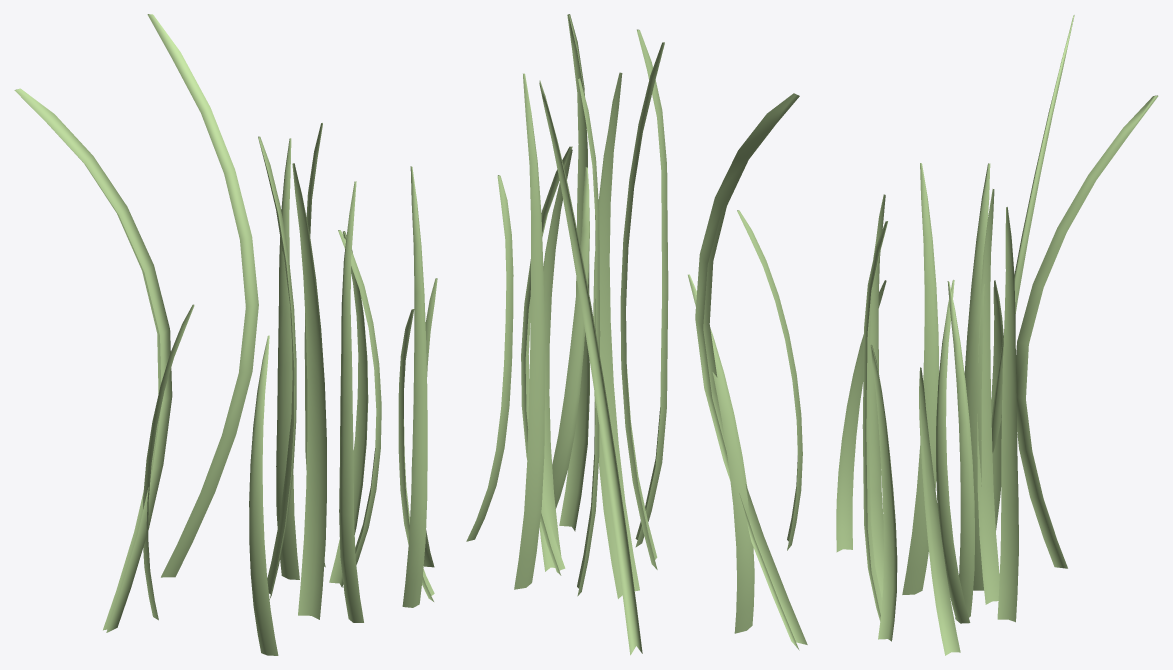
Rendered from erba fine 2.fbx.
3 views of the same model, side by side, from view 1: azimuth 30°, elevation 25°; view 2: azimuth 150°, elevation 25°; view 3: azimuth 270°, elevation 25° (orthographic). The views are drawn at different scales.
Parts seen in each view (by area): view 1: Plane.007, Plane.012, Plane.014, Plane.011, Plane.005, Plane.010, Plane.017, Plane.006, Plane.016, Plane.009, Plane.013, Plane.008 (+2 smaller); view 2: Plane.014, Plane.003, Plane.007, Plane.006, Plane.013, Plane.011, Plane.008, Plane.005, Plane.012, Plane.009, Plane.015, Plane.010 (+2 smaller); view 3: Plane.003, Plane.007, Plane.012, Plane.010, Plane.006, Plane.016, Plane.015, Plane.009, Plane.005, Plane.008, Plane.017, Plane.011 (+2 smaller).
Boxes of the visible parts, left/top/right/bottom form: Plane.007: left=147, top=14, right=258, bottom=577; Plane.012: left=292, top=163, right=326, bottom=619; Plane.014: left=14, top=88, right=172, bottom=632; Plane.011: left=402, top=166, right=427, bottom=607; Plane.005: left=339, top=181, right=363, bottom=622; Plane.010: left=276, top=138, right=299, bottom=579; Plane.017: left=249, top=335, right=278, bottom=655; Plane.006: left=258, top=136, right=296, bottom=599; Plane.016: left=329, top=231, right=368, bottom=587; Plane.009: left=338, top=230, right=381, bottom=564; Plane.013: left=143, top=304, right=194, bottom=620; Plane.008: left=398, top=309, right=434, bottom=601; Plane.014: left=695, top=93, right=807, bottom=650; Plane.003: left=514, top=73, right=544, bottom=589; Plane.007: left=539, top=80, right=642, bottom=655; Plane.006: left=593, top=72, right=639, bottom=598; Plane.013: left=688, top=274, right=754, bottom=633; Plane.011: left=559, top=14, right=589, bottom=531; Plane.008: left=552, top=167, right=589, bottom=508; Plane.005: left=635, top=29, right=668, bottom=547; Plane.012: left=620, top=42, right=664, bottom=569; Plane.009: left=539, top=149, right=572, bottom=571; Plane.015: left=466, top=175, right=513, bottom=541; Plane.010: left=577, top=78, right=600, bottom=596; Plane.003: left=997, top=207, right=1018, bottom=622; Plane.007: left=1016, top=95, right=1158, bottom=568; Plane.012: left=902, top=163, right=939, bottom=594; Plane.010: left=977, top=189, right=999, bottom=604; Plane.006: left=964, top=163, right=990, bottom=590; Plane.016: left=947, top=281, right=974, bottom=619; Plane.015: left=919, top=367, right=960, bottom=655; Plane.009: left=936, top=280, right=970, bottom=623; Plane.005: left=869, top=194, right=885, bottom=599; Plane.008: left=870, top=345, right=897, bottom=641; Plane.017: left=836, top=280, right=886, bottom=552; Plane.011: left=862, top=221, right=887, bottom=621.
Size of the model in its own units: 62.57 by 88.38 by 52.95.
